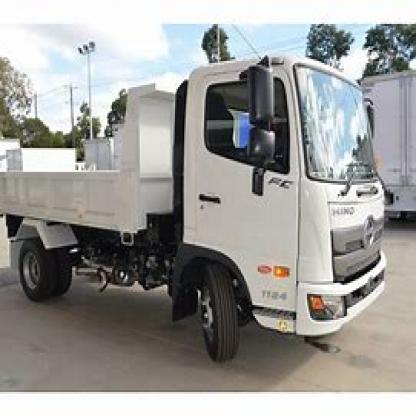dump_truck: (4, 46, 392, 362)
